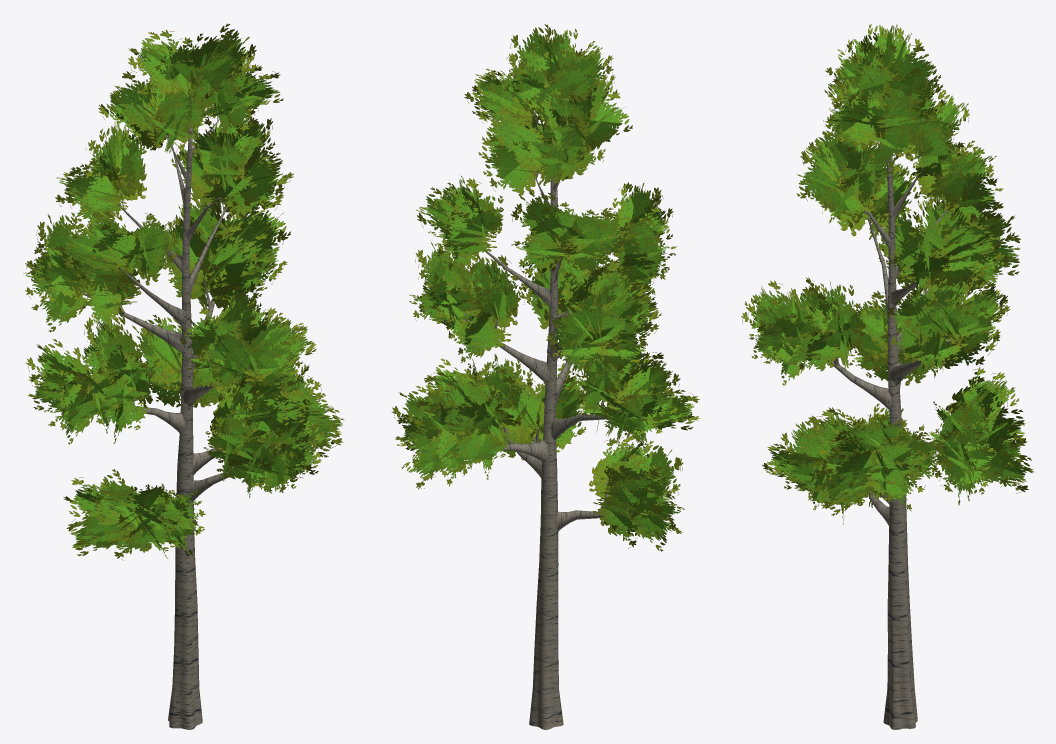
File: SM_Tree03.fbx
The picture shows the model from 3 angles, left to right: view 1: azimuth 30°, elevation 25°; view 2: azimuth 150°, elevation 25°; view 3: azimuth 270°, elevation 25°; orthographic projection. The views are drawn at different scales.
Visible parts, largest first — view 1: SM_Tree03_LOD0; view 2: SM_Tree03_LOD0; view 3: SM_Tree03_LOD0.
Boxes of the visible parts, left/top/right/bottom form: SM_Tree03_LOD0: left=23, top=23, right=344, bottom=729; SM_Tree03_LOD0: left=392, top=24, right=700, bottom=729; SM_Tree03_LOD0: left=741, top=24, right=1034, bottom=729.
Size of the model in its own units: 291 by 272 by 670.
Materials: 2 (2 with a texture image).
